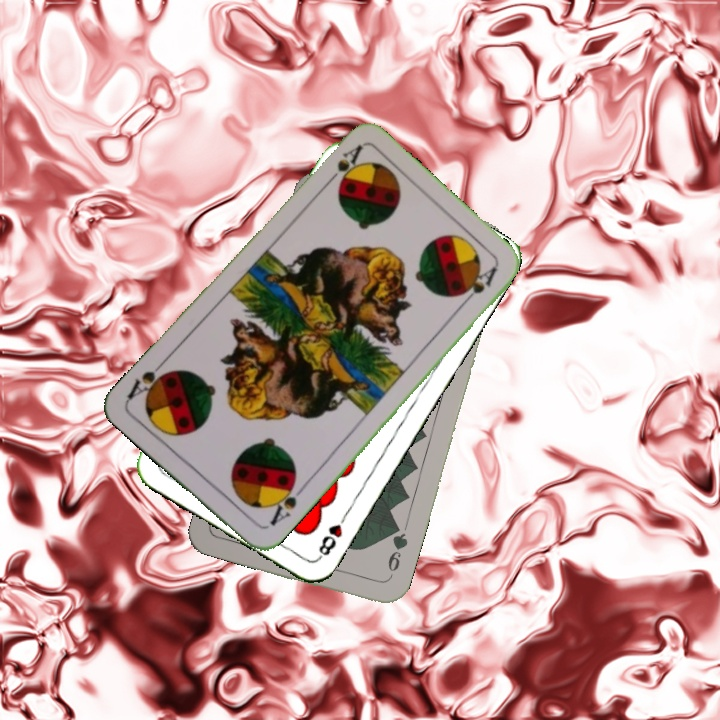G9: (383, 523, 410, 582)
H8: (314, 508, 351, 562)
SA: (265, 476, 308, 529), (320, 141, 365, 191)
